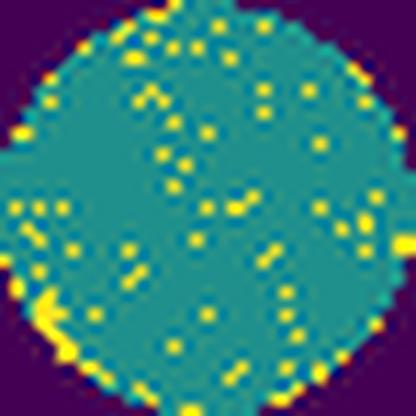Edge-Loc: (22, 287, 78, 369), (393, 230, 416, 262)
